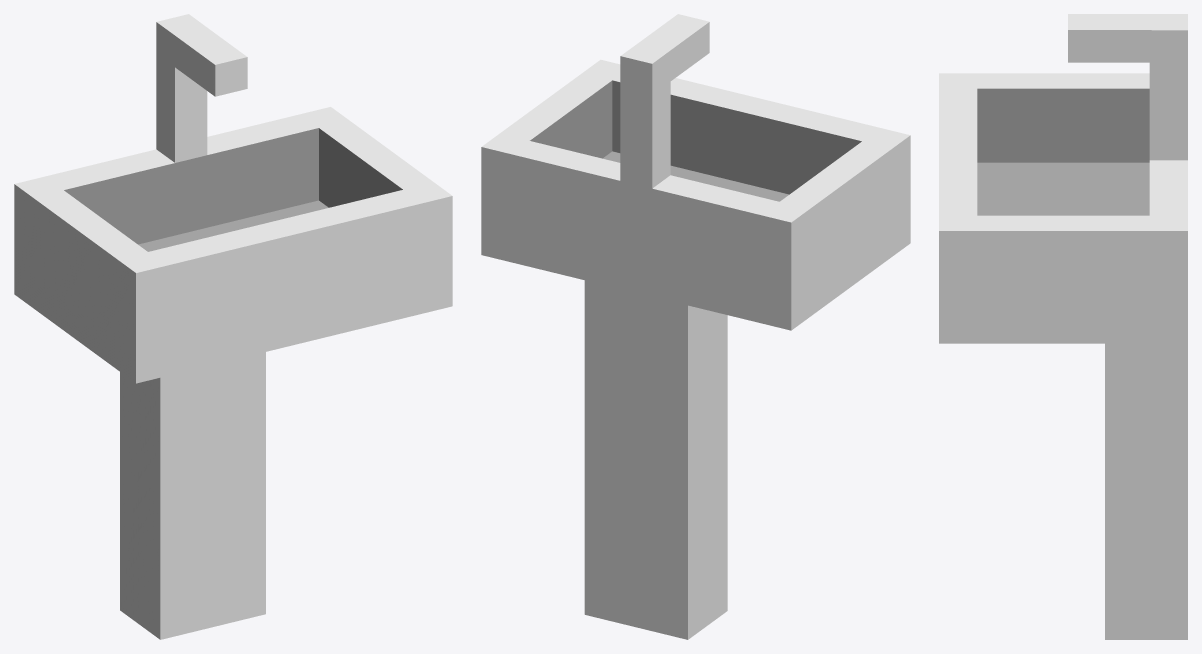
The model's file is bathroom_sink.fbx.
3 renders of one model, left to right at view 1: azimuth 30°, elevation 25°; view 2: azimuth 150°, elevation 25°; view 3: azimuth 270°, elevation 25°, orthographic. The views are drawn at different scales.
Parts seen in each view (by area): view 1: pCube1; view 2: pCube1; view 3: pCube1.
Part boxes in pixels (<box>): pCube1: <box>14,14,452,639</box>; pCube1: <box>481,14,910,639</box>; pCube1: <box>939,14,1187,639</box>.
Bounding box in the file's own units: 7.5 × 13.12 × 5.
1 material, 1 textured.
